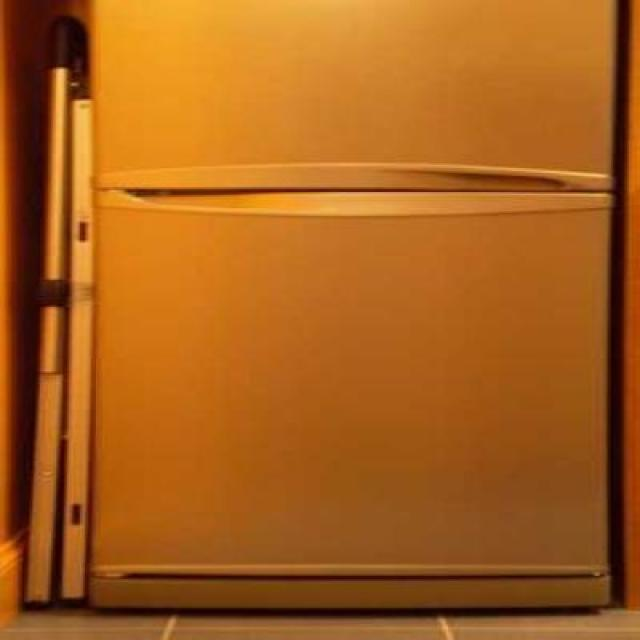refrigerator: (88, 0, 621, 613)
